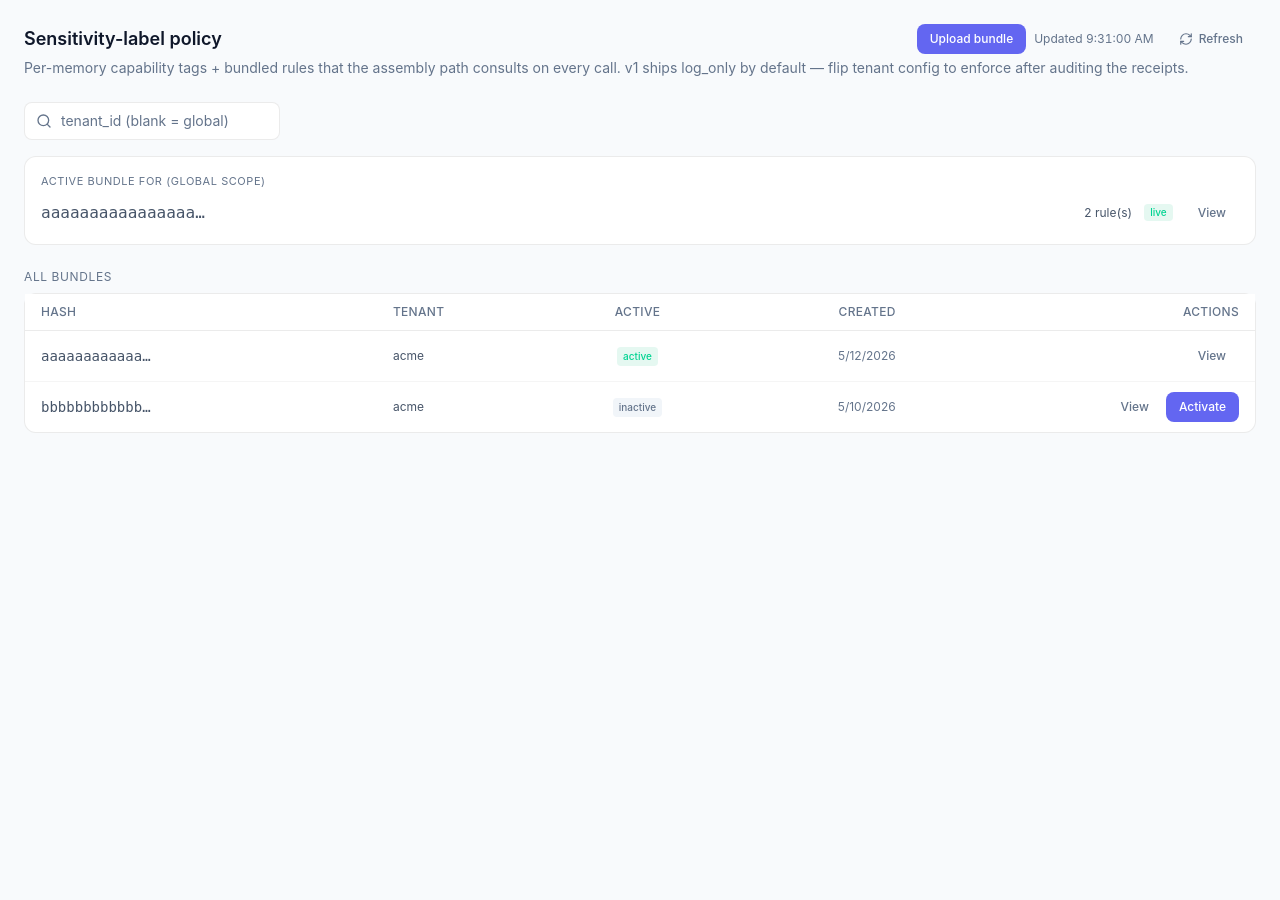
PolicyPage › opens bundle detail modal on View click
The image size is (1280, 900).
Click the button "View" next to "live": (1212, 212) top-left (1185, 198), bottom-right (1239, 228)
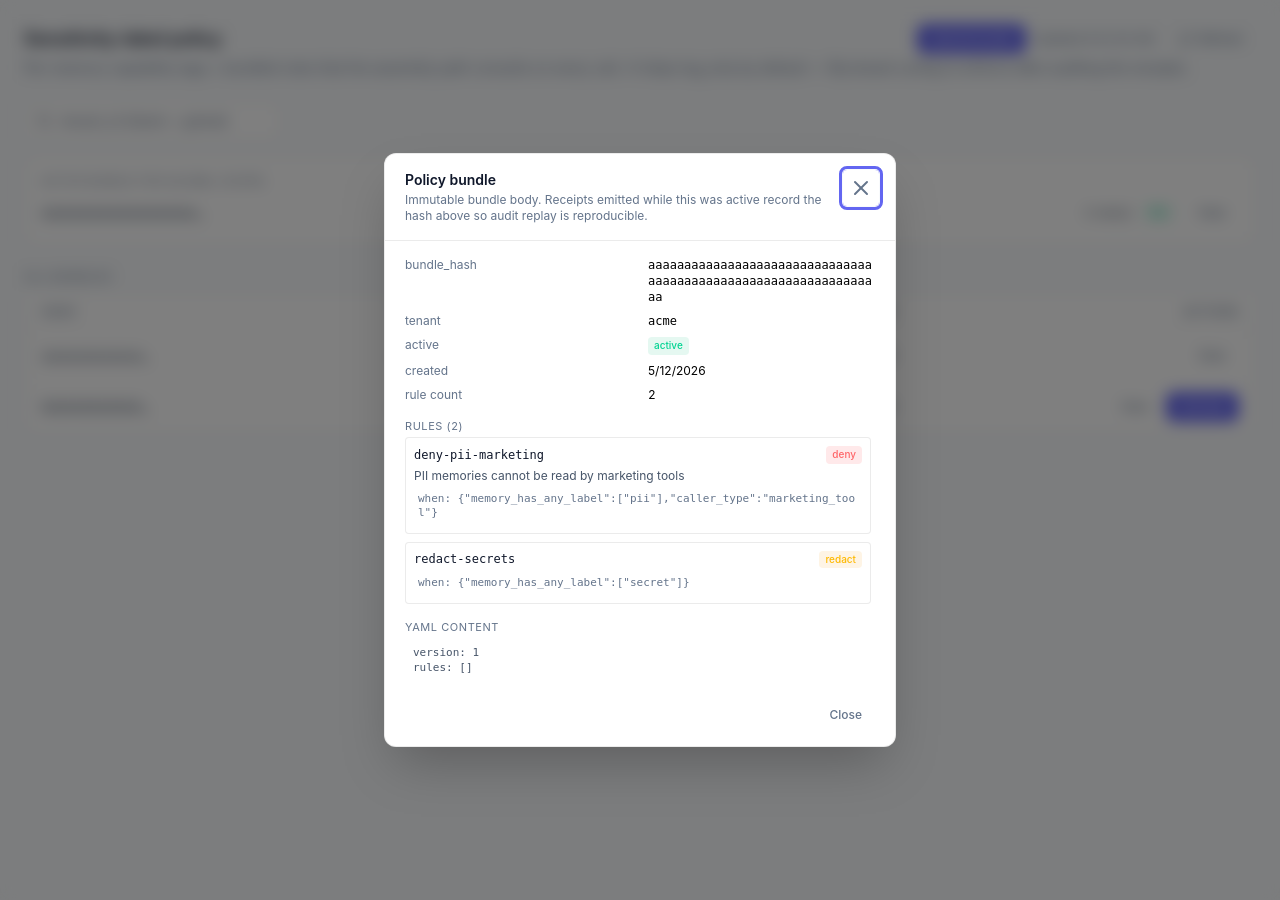
Expected: the heading "Rules (2)" is shown, top-left (405, 418), bottom-right (463, 432)
Expected: the text "deny-pii-marketing" is shown, top-left (414, 447), bottom-right (544, 463)
